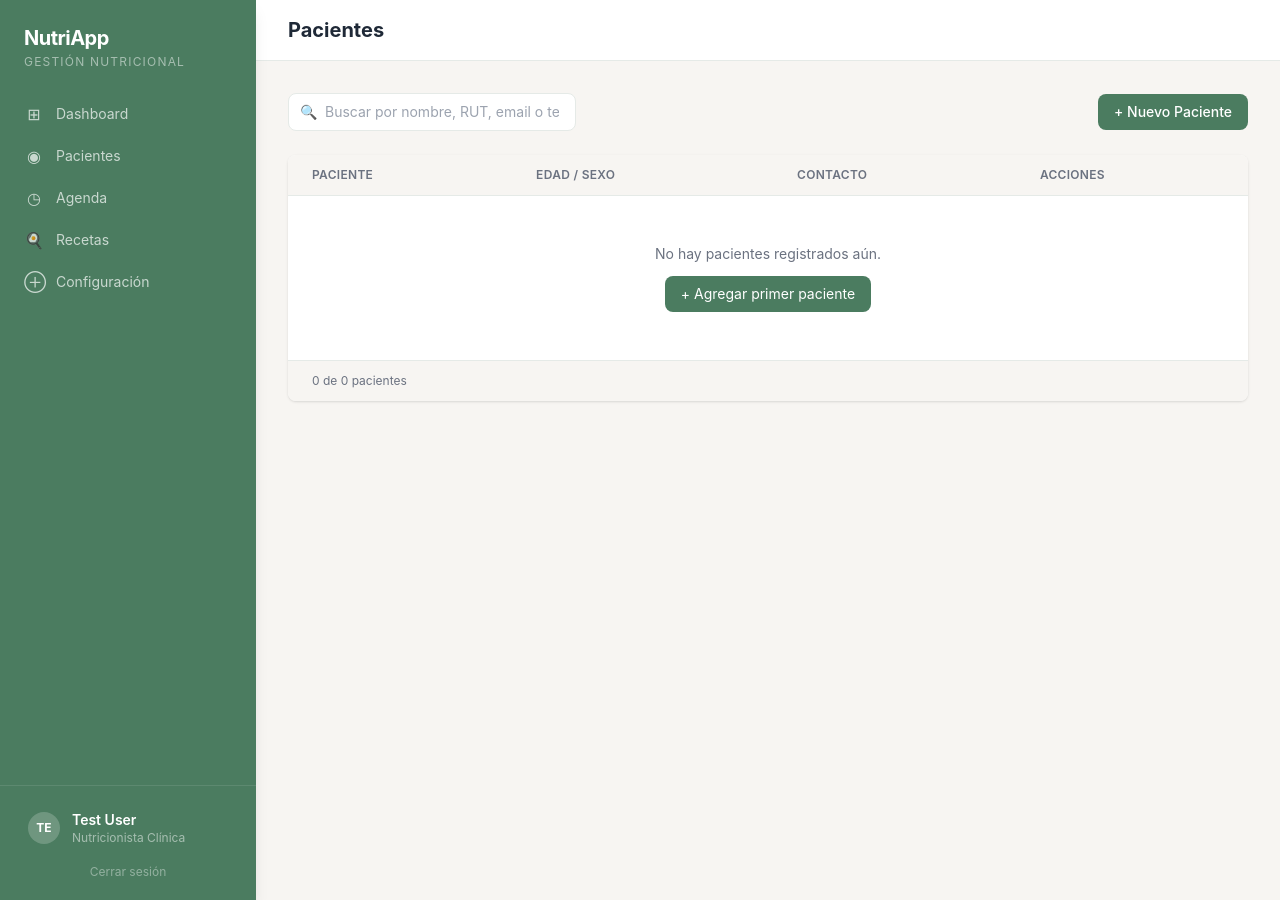
Test case: PatientsPage › shows empty state when no patients match search
This screenshot has width=1280, height=900.
In the field with placeholder "Buscar por nombre, RUT, email o teléfono...": x=432, y=112 [288,93,576,131], type "zzz-no-match"
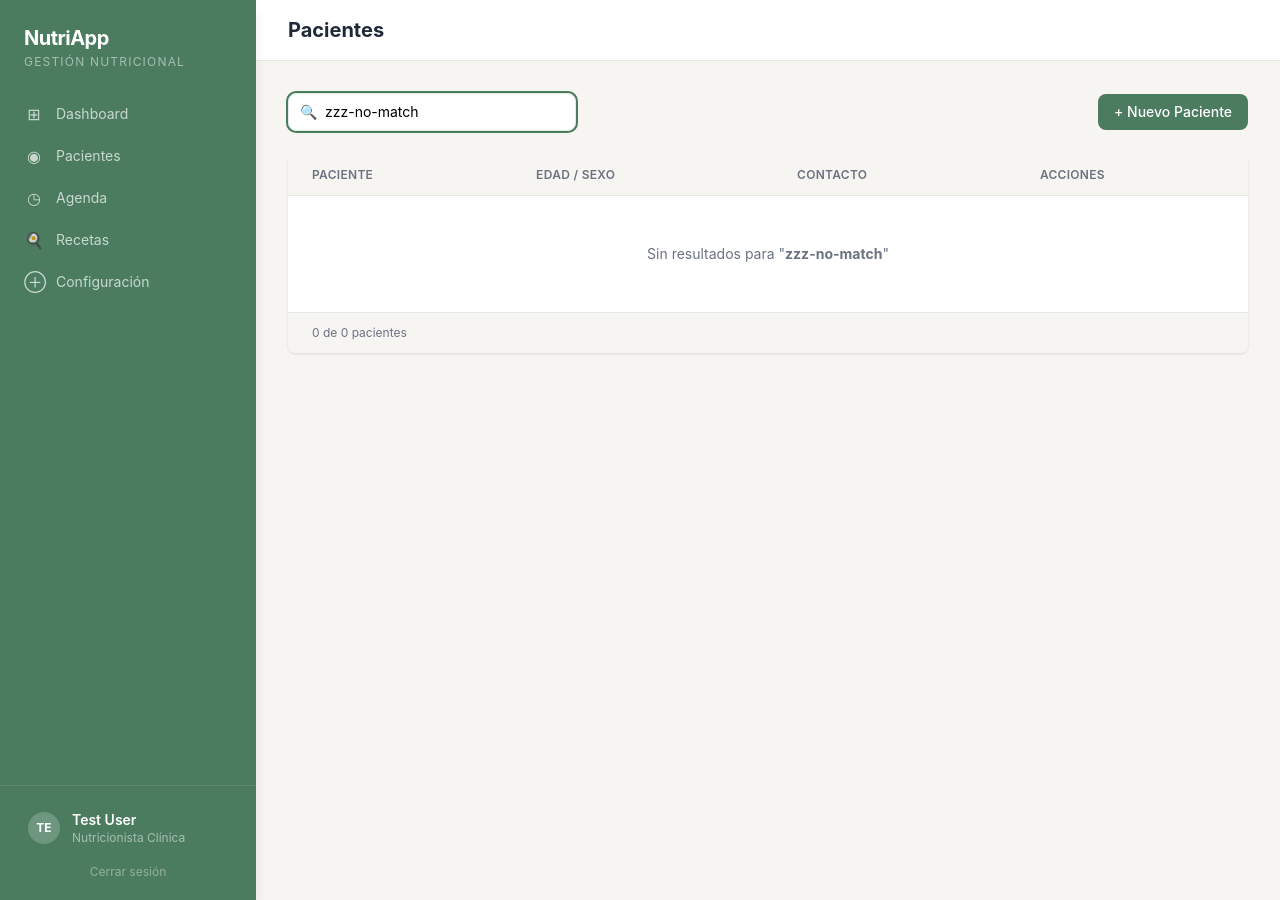
Expected: the text "Sin resultados para \"zzz-no-match\"" is shown, [647,245,889,262]
